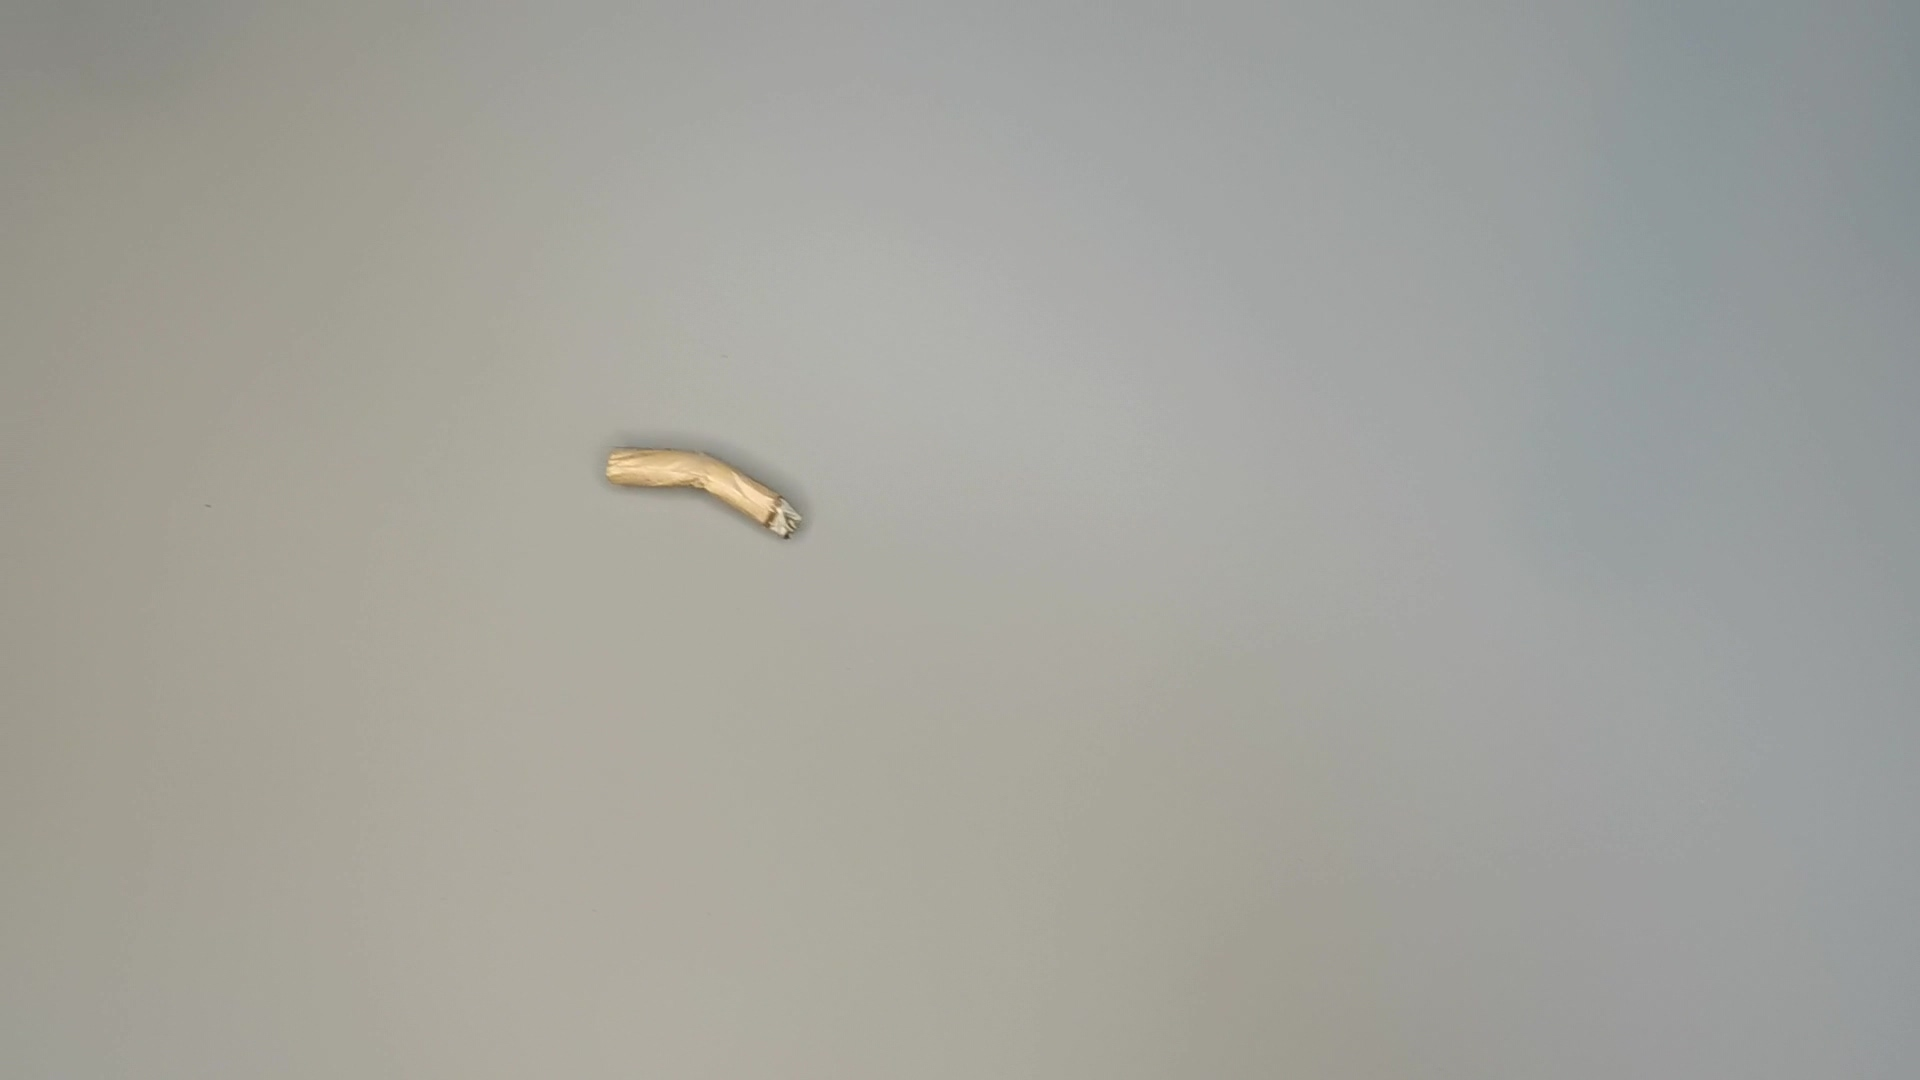cigarette: (595, 438, 810, 553)
